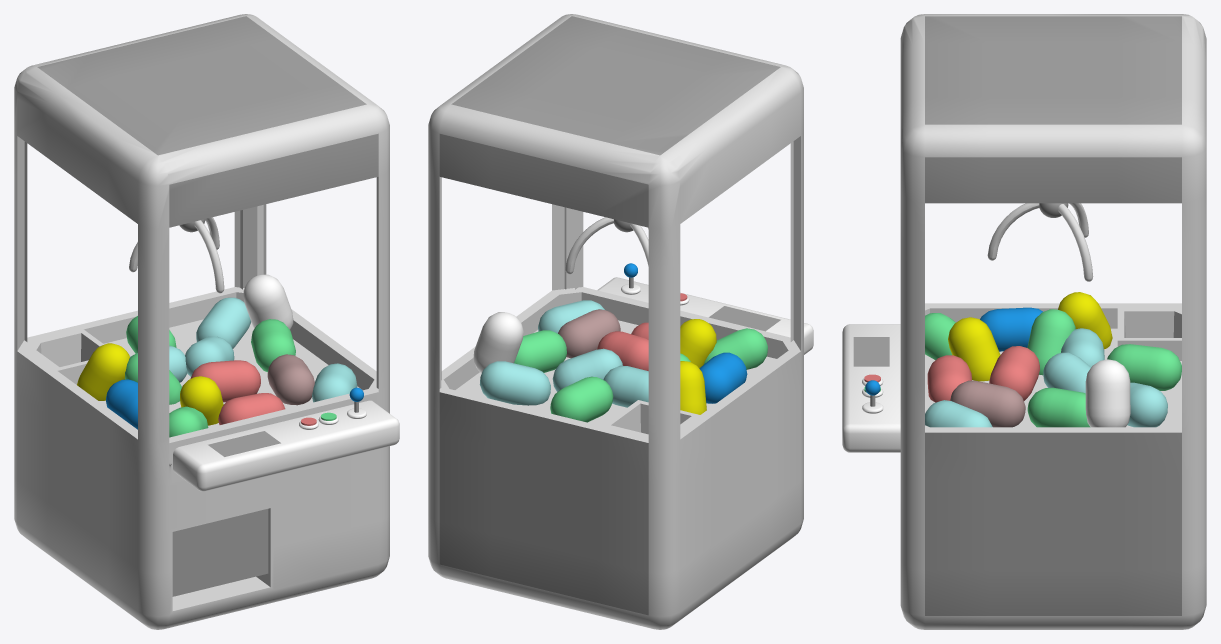
The model's file is doll.glb.
3 views of the same model, side by side, from view 1: azimuth 30°, elevation 25°; view 2: azimuth 150°, elevation 25°; view 3: azimuth 270°, elevation 25° (orthographic). The views are drawn at different scales.
Parts seen in each view (by area): view 1: 문방구_1; view 2: 문방구_1; view 3: 문방구_1.
Boxes of the visible parts, x1,y1,x2,y2 form: 문방구_1: [14, 14, 399, 629]; 문방구_1: [428, 14, 813, 629]; 문방구_1: [842, 14, 1206, 629].
Bounding box in the file's own units: 2 × 3.63 × 2.38.
